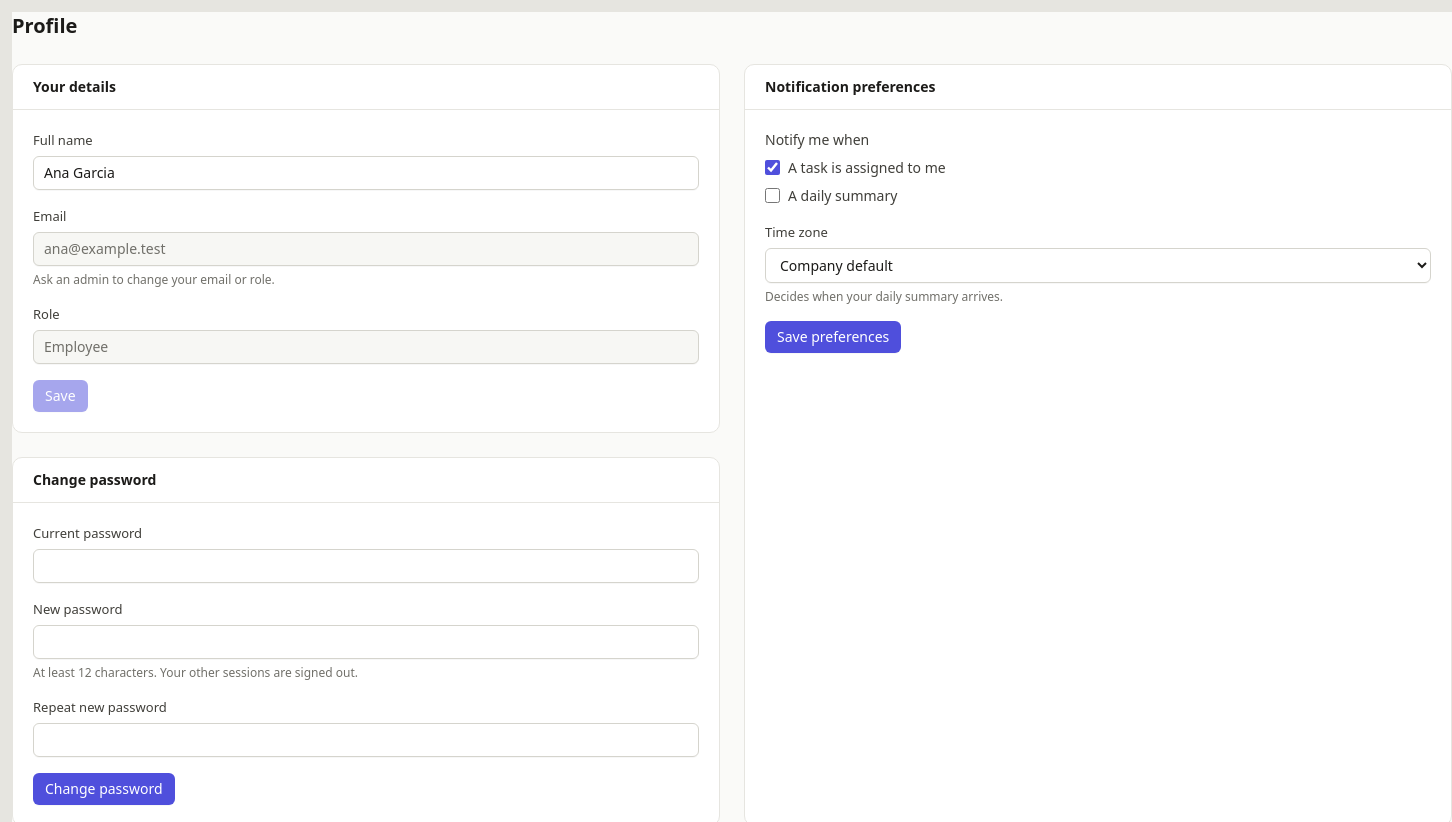
Test: password › says how many sessions ended and empties the form
Step 1. Type "current" into the password field labelled "Current password" → (366, 566), box [33,549,699,583]
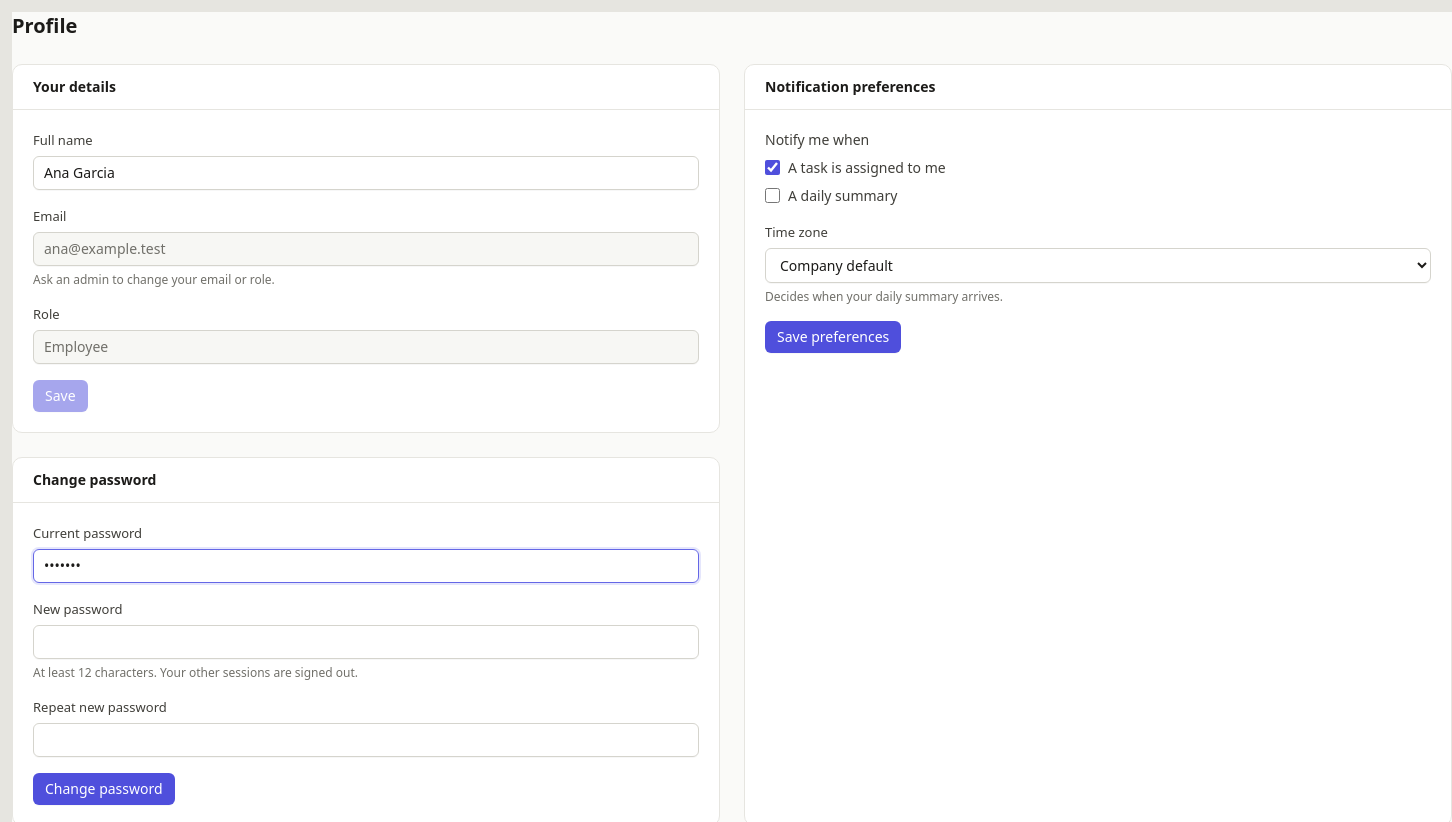
Step 2. Type "a-long-enough-password" into the password field labelled "New password" → (366, 642), box [33,625,699,659]
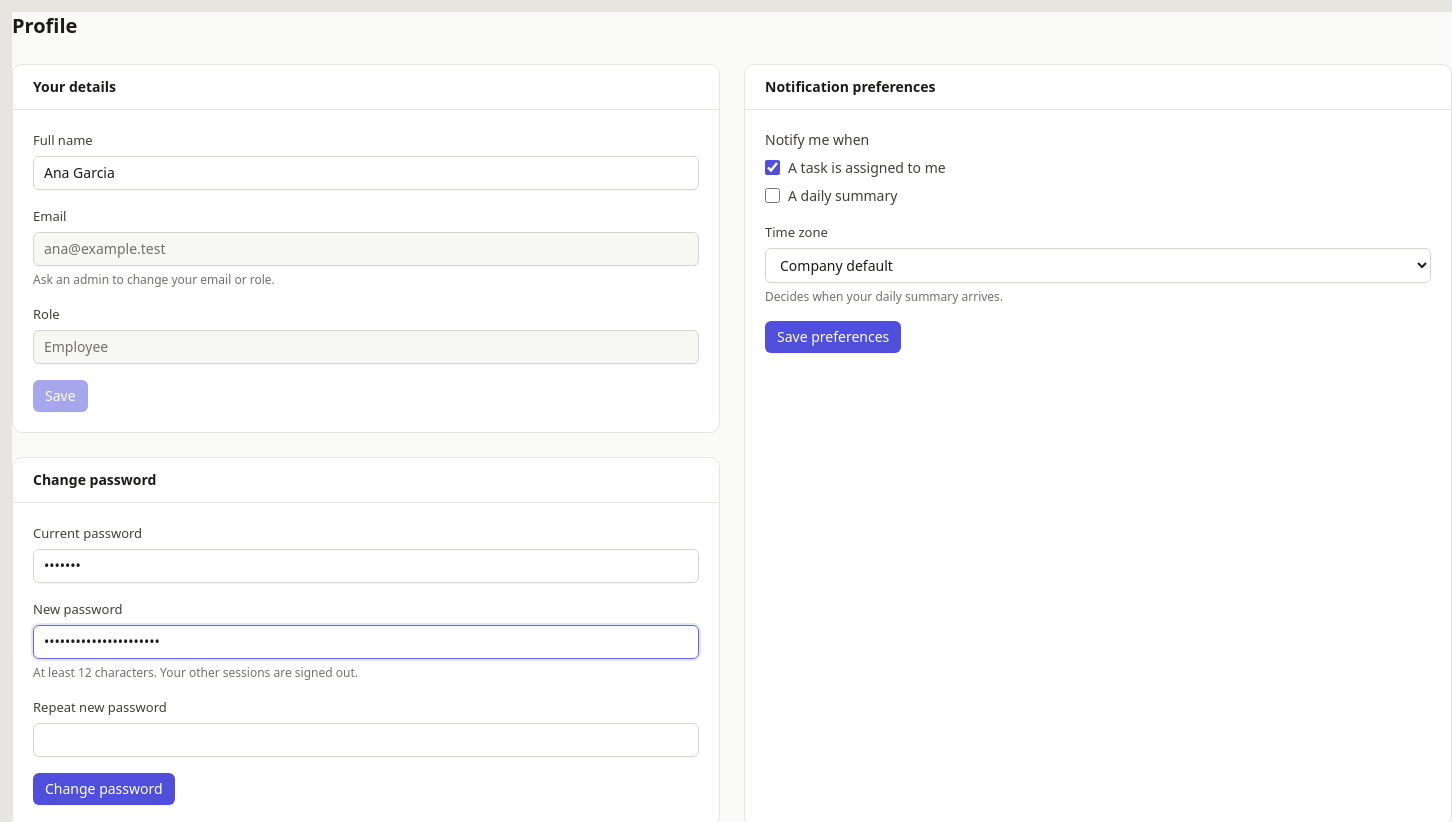
Step 3. Type "a-long-enough-password" into the password field labelled "Repeat new password" → (366, 740), box [33,723,699,757]
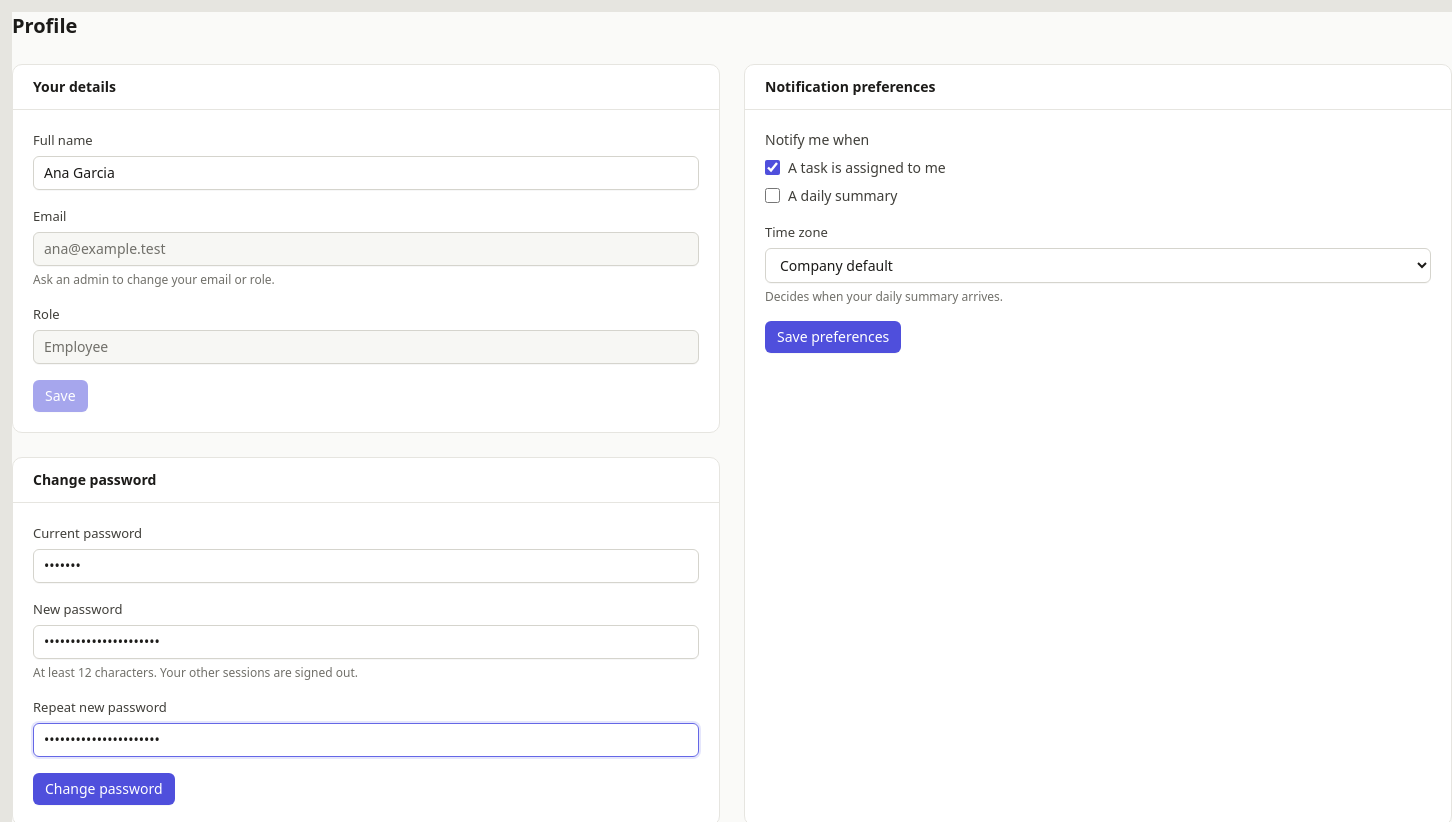
Step 4. Click the button "Change password" → click(104, 789), box [33,773,175,805]
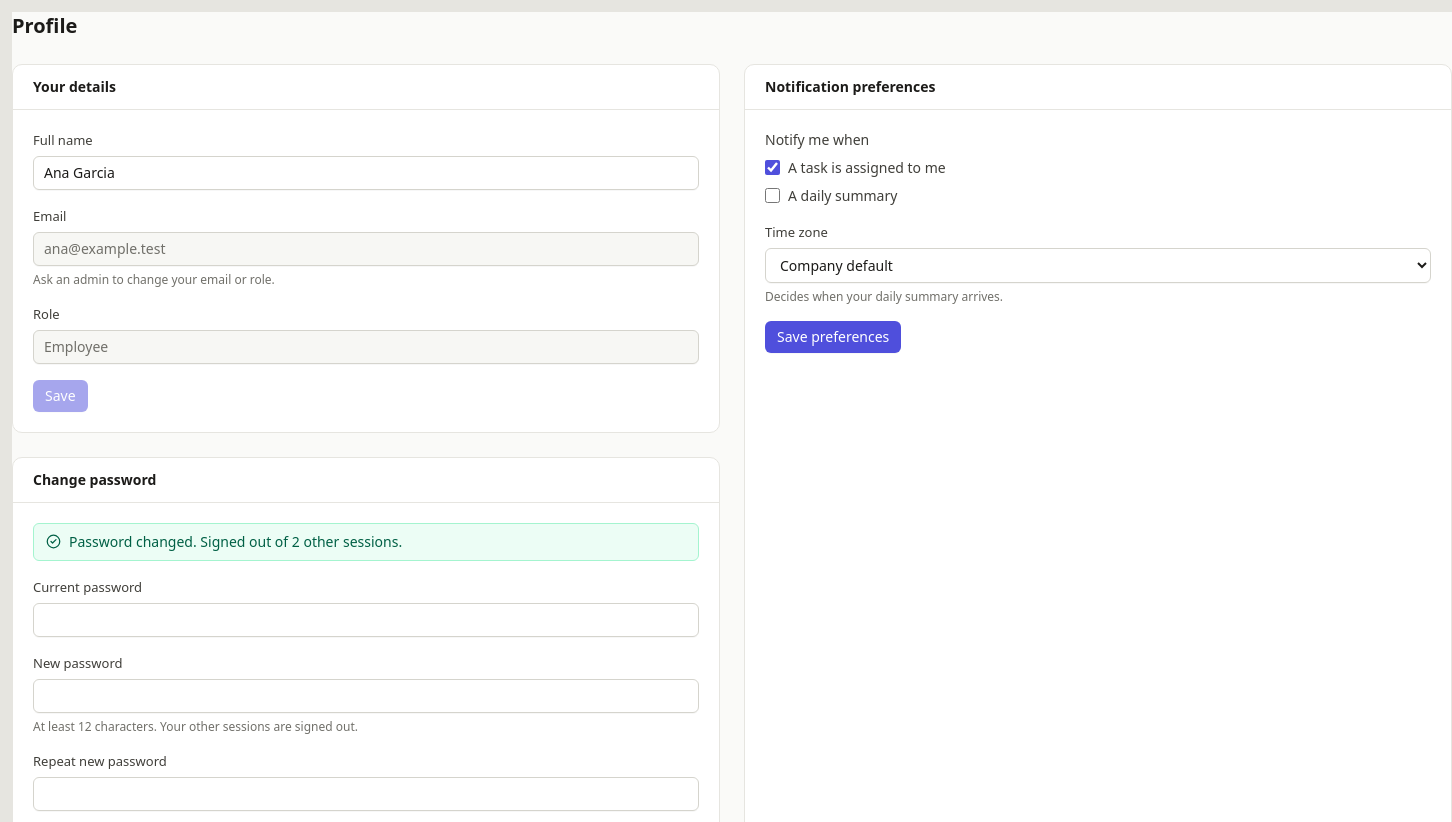
Expected: the message reads "Password changed. Signed out of 2 other sessions.", [69,532,402,551]
Expected: the password field labelled "New password" is empty, [33,679,699,713]
